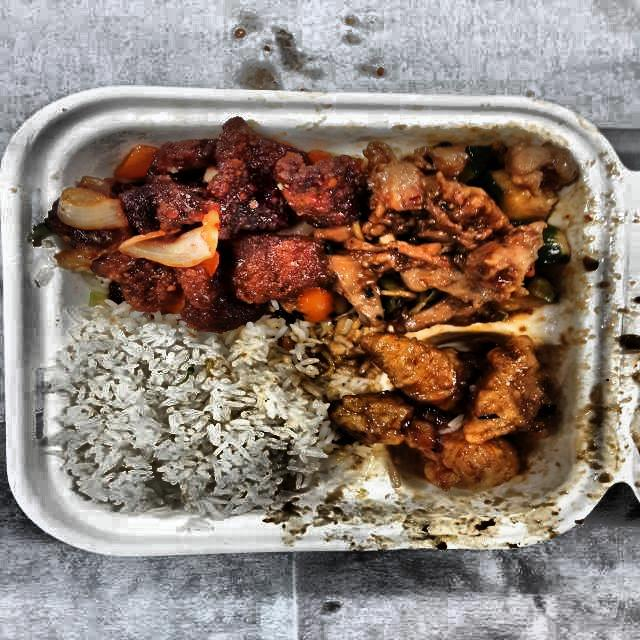Food: (43, 116, 364, 328), (52, 318, 330, 518), (342, 125, 582, 333), (338, 325, 568, 493)
